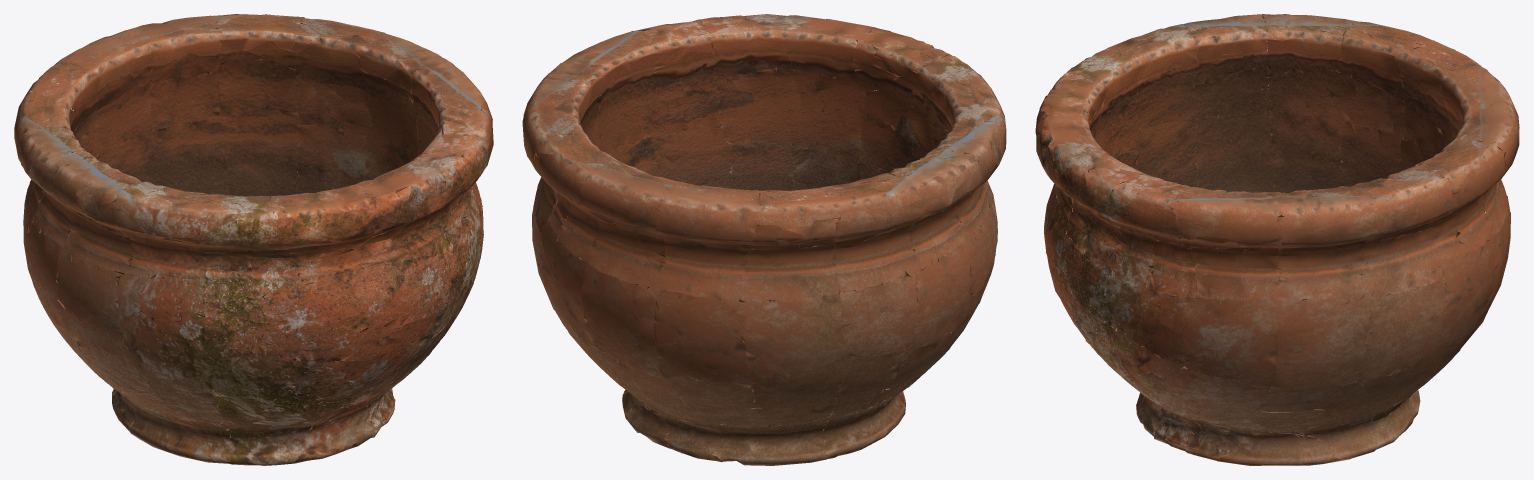
Rendered from pot.glb.
3 views of the same model, side by side, from view 1: azimuth 30°, elevation 25°; view 2: azimuth 150°, elevation 25°; view 3: azimuth 270°, elevation 25° (orthographic).
Parts seen in each view (by area): view 1: Mesh_0; view 2: Mesh_0; view 3: Mesh_0.
Boxes of the visible parts, left/top/right/bottom form: Mesh_0: left=14, top=14, right=493, bottom=465; Mesh_0: left=522, top=14, right=1006, bottom=465; Mesh_0: left=1035, top=14, right=1519, bottom=465.
Size of the model in its own units: 1.9 by 1.32 by 1.9.
1 material, 1 textured.
